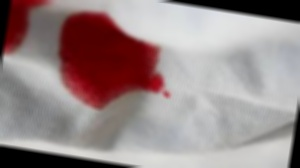blood: (51, 9, 172, 119)
